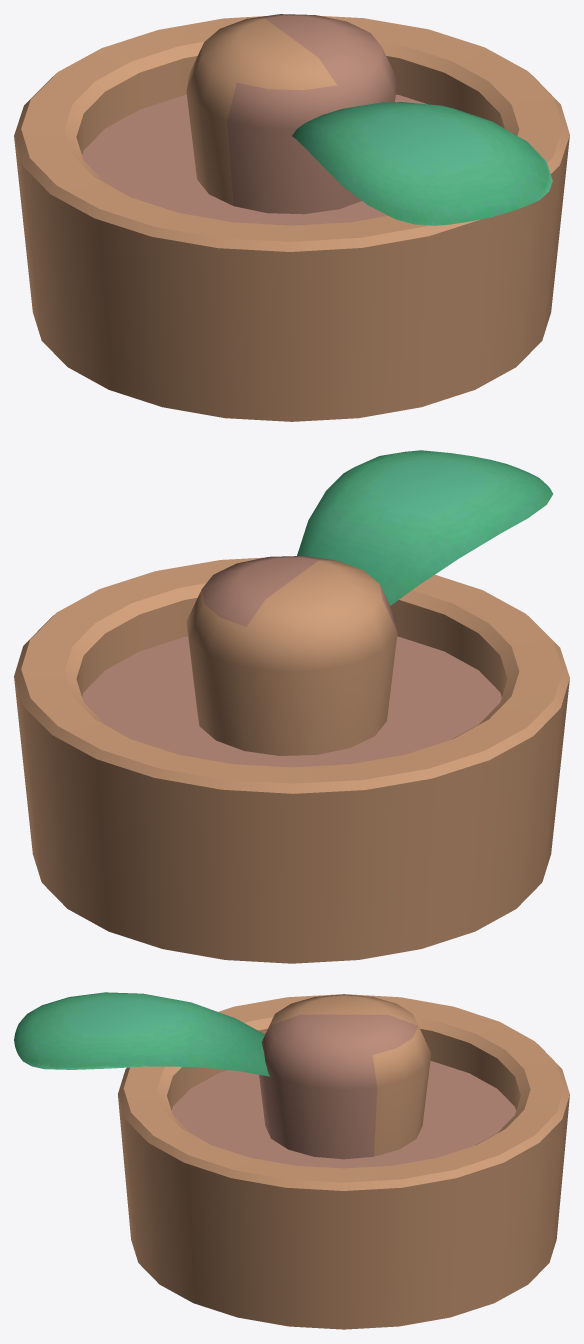
File: Flower_Green.fbx
3 renders of one model, top to bottom at view 1: azimuth 30°, elevation 25°; view 2: azimuth 150°, elevation 25°; view 3: azimuth 270°, elevation 25°, orthographic. The views are drawn at different scales.
Visible parts, largest first — view 1: Flower_Pot_0, pCylinder1, Petal_01__3375_Petal_01_6; view 2: Flower_Pot_0, pCylinder1, Petal_01__3375_Petal_01_6; view 3: Flower_Pot_0, pCylinder1, Petal_01__3375_Petal_01_6.
Part boxes in pixels (x1,y1,x2,y2): Flower_Pot_0: (14,15,569,421); pCylinder1: (186,14,397,214); Petal_01__3375_Petal_01_6: (292,102,552,225); Flower_Pot_0: (14,557,569,963); pCylinder1: (186,556,397,755); Petal_01__3375_Petal_01_6: (297,450,552,605); Flower_Pot_0: (118,994,569,1329); pCylinder1: (259,994,431,1159); Petal_01__3375_Petal_01_6: (14,992,269,1076).
Size of the model in its own units: 10.92 by 13.25 by 5.94.
